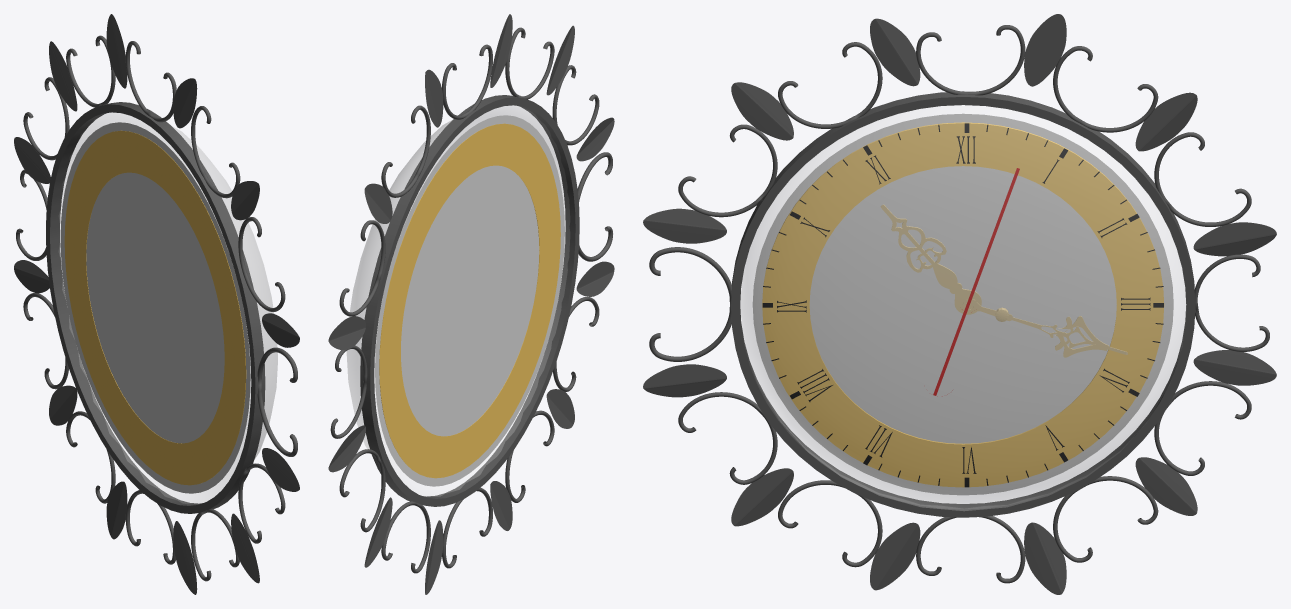
3 renders of one model, left to right at view 1: azimuth 30°, elevation 25°; view 2: azimuth 150°, elevation 25°; view 3: azimuth 270°, elevation 25°, orthographic. The views are drawn at different scales.
Parts seen in each view (by area): view 1: MainWoodPiece, goldPiece, clockBorder, Sphere, Cube.002, Cube, Cube.005, Cube.003, Cube.006, Cube.004, BezierCurve.005, BezierCurve (+5 smaller); view 2: MainWoodPiece, goldPiece, clockBorder, Sphere, Cube.006, Cube.004, Cube.003, Cube.005, Cube, Cube.002, BezierCurve.003, BezierCurve.002 (+5 smaller); view 3: Sphere, MainWoodPiece, goldPiece, clockBorder, Cube.006, Cube.005, Cube.004, Cube, Cube.002, Cube.003, BezierCurve.005, BezierCurve.002 (+8 smaller).
Boxes of the visible parts, box(x1,y1,x2,y2) form: MainWoodPiece: box(60, 122, 250, 493); goldPiece: box(64, 130, 246, 485); clockBorder: box(46, 102, 265, 513); Sphere: box(59, 113, 277, 503); Cube.002: box(106, 14, 127, 539); Cube: box(173, 78, 197, 594); Cube.005: box(231, 181, 259, 583); Cube.003: box(49, 41, 77, 425); Cube.006: box(262, 313, 299, 491); Cube.004: box(14, 137, 50, 293); BezierCurve.005: box(238, 217, 285, 543); BezierCurve: box(191, 106, 240, 581); MainWoodPiece: box(375, 115, 564, 486); goldPiece: box(379, 123, 560, 478); clockBorder: box(360, 95, 579, 506); Sphere: box(347, 105, 569, 496); Cube.006: box(576, 117, 614, 296); Cube.004: box(328, 316, 365, 472); Cube.003: box(364, 183, 392, 567); Cube.005: box(546, 25, 574, 428); Cube: box(490, 14, 512, 530); Cube.002: box(425, 69, 443, 594); BezierCurve.003: box(339, 220, 385, 532); BezierCurve.002: box(381, 105, 430, 573); Sphere: box(740, 105, 1186, 510); MainWoodPiece: box(752, 113, 1173, 495); goldPiece: box(762, 122, 1164, 487); clockBorder: box(731, 91, 1195, 517); Cube.006: box(643, 208, 726, 397); Cube.005: box(731, 82, 793, 526); Cube.004: box(1193, 222, 1276, 385); Cube: box(870, 18, 920, 590); Cube.002: box(1024, 14, 1066, 594); Cube.003: box(1135, 92, 1197, 515); BezierCurve.005: box(678, 124, 777, 484); BezierCurve.002: box(1053, 46, 1158, 562).
Size of the model in its own units: 48.34 by 324 by 320.
Materials: 8 (1 with a texture image).
